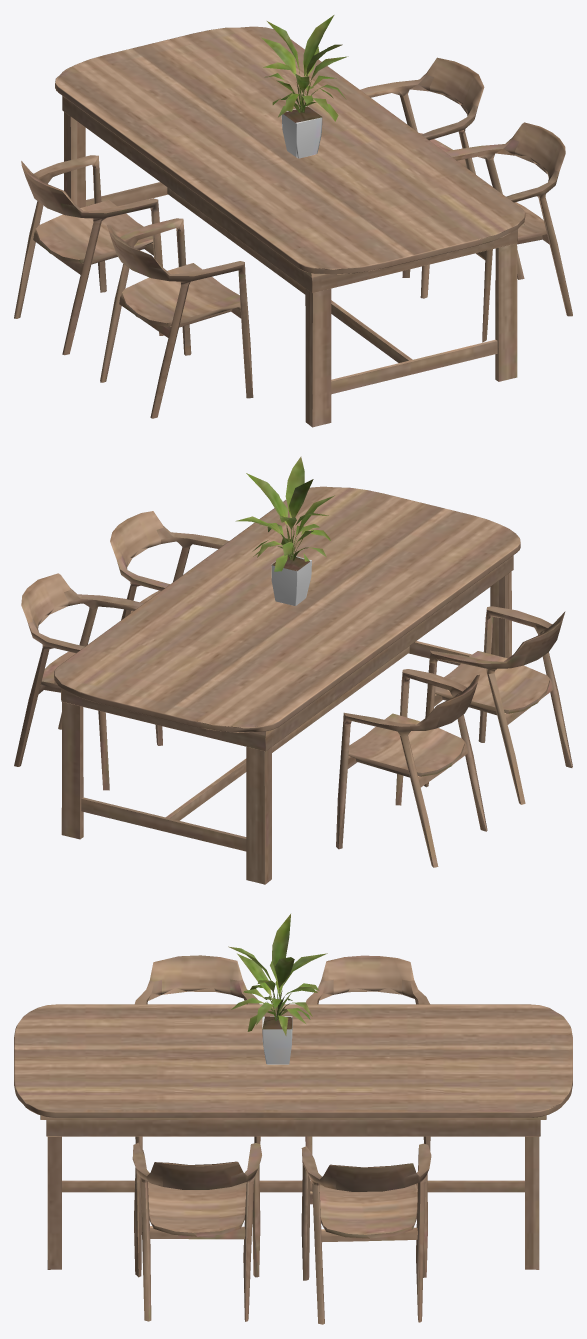
The model's file is DiningTable0002.obj.
3 renders of one model, top to bottom at view 1: azimuth 30°, elevation 25°; view 2: azimuth 150°, elevation 25°; view 3: azimuth 270°, elevation 25°, orthographic.
Bounding box in the file's own units: 2.19 × 1.42 × 2.43.
1 material, 1 textured.
